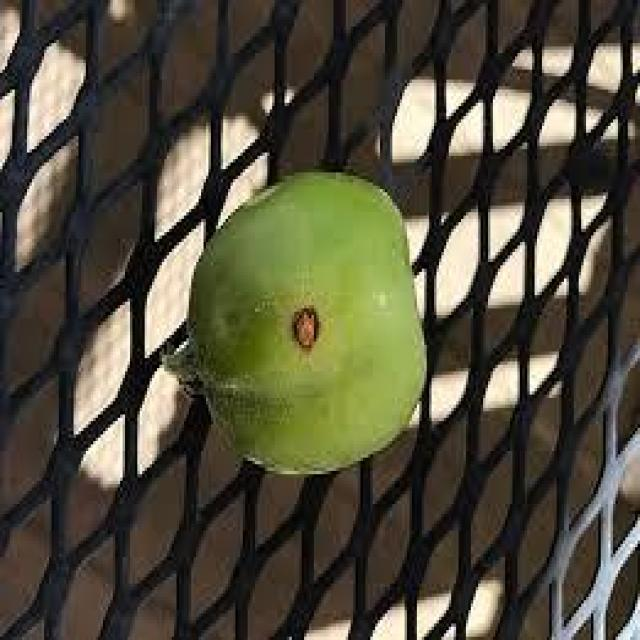maca: (179, 166, 427, 474)
